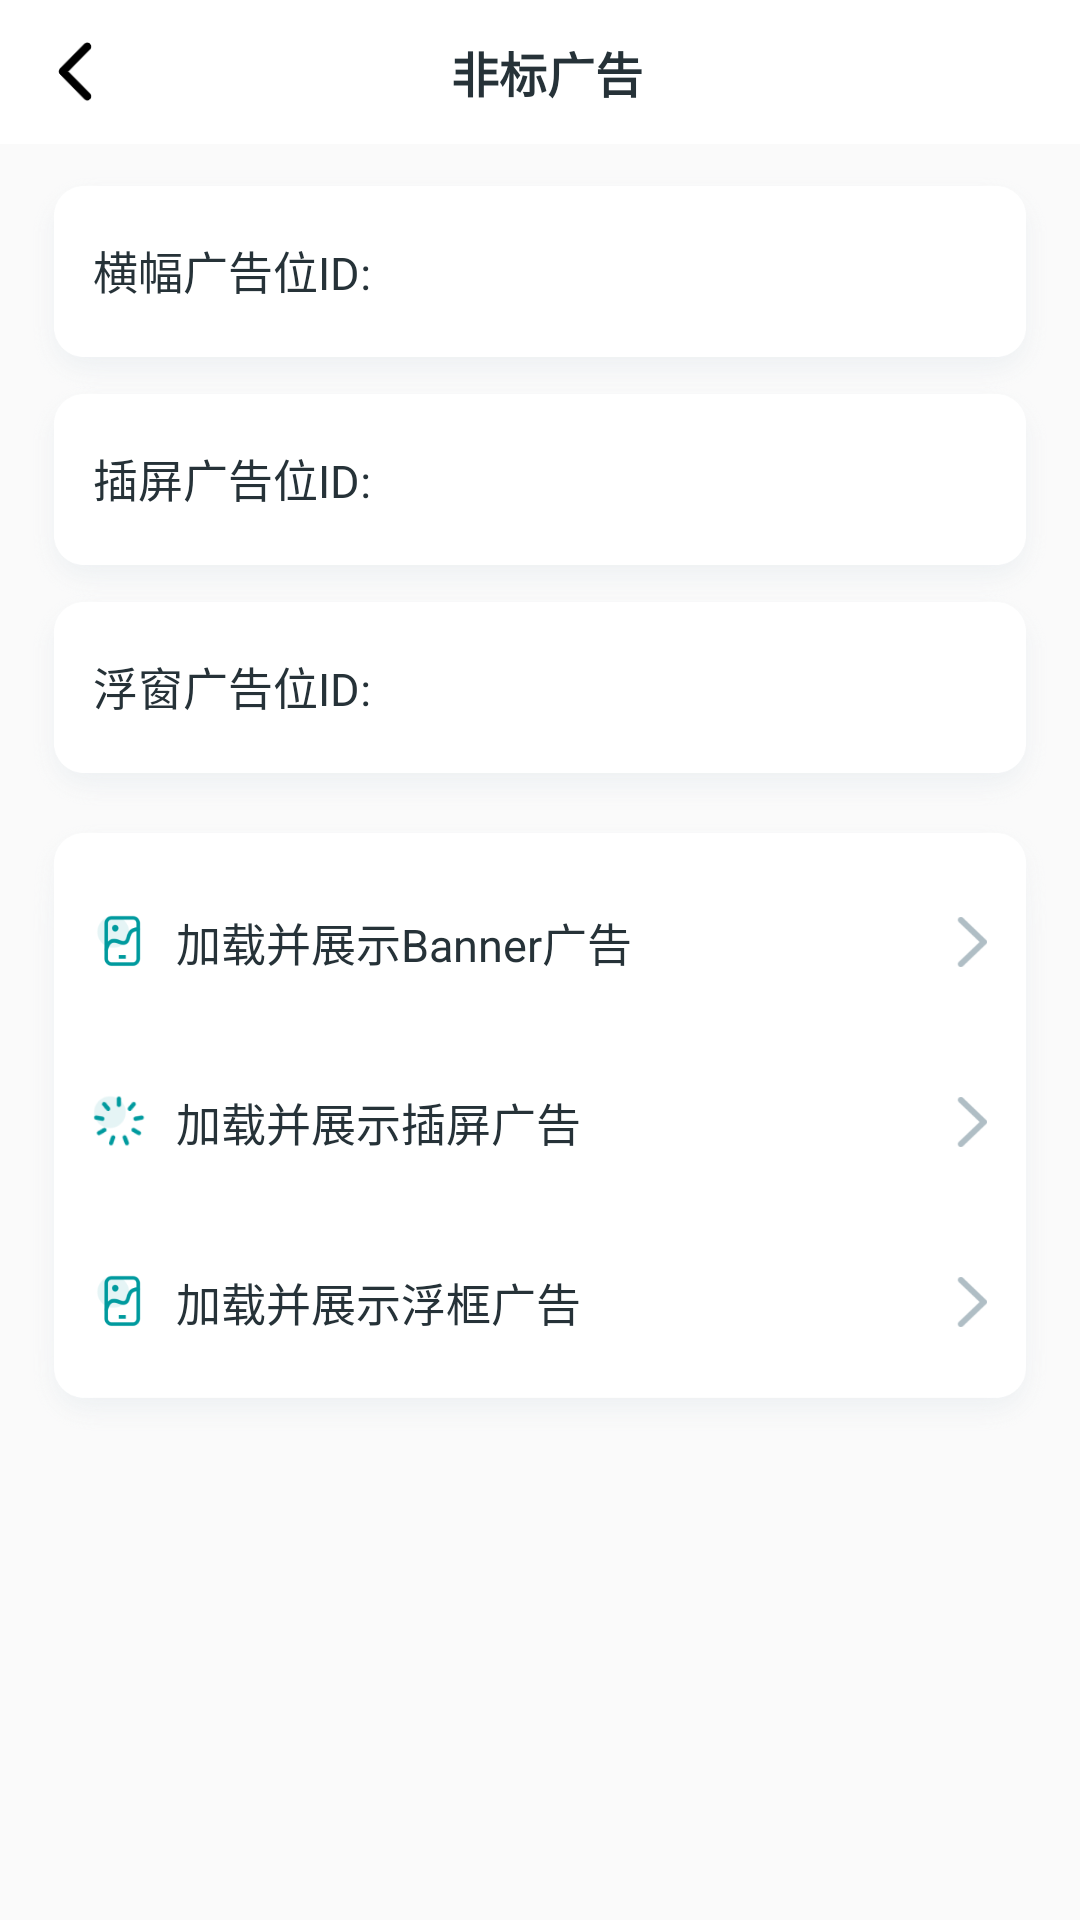

Where to tap for icons on this 1080 × 1920 app screen, as (x=x, y=y):
back: (x=75, y=71)
